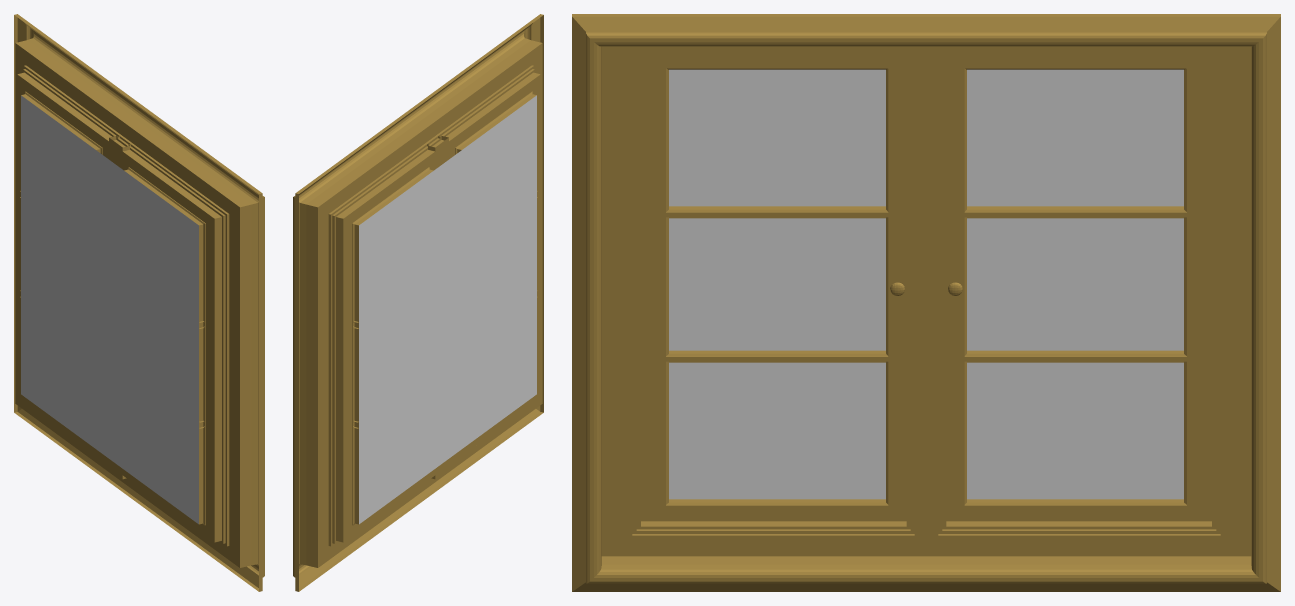
File: Jendela.fbx
The picture shows the model from 3 angles, left to right: view 1: azimuth 30°, elevation 25°; view 2: azimuth 150°, elevation 25°; view 3: azimuth 270°, elevation 25°; orthographic projection. The views are drawn at different scales.
Visible parts, largest first — view 1: Cube.013; view 2: Cube.013; view 3: Cube.013.
Part boxes in pixels (x1,y1,x2,y2): Cube.013: [14, 14, 264, 591]; Cube.013: [293, 14, 543, 591]; Cube.013: [572, 14, 1280, 591].
Bounding box in the file's own units: 13 × 129 × 144.
